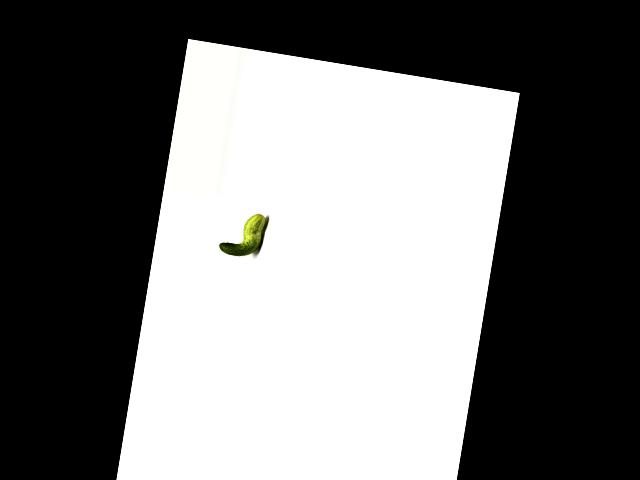cucumber: (218, 208, 267, 260)
